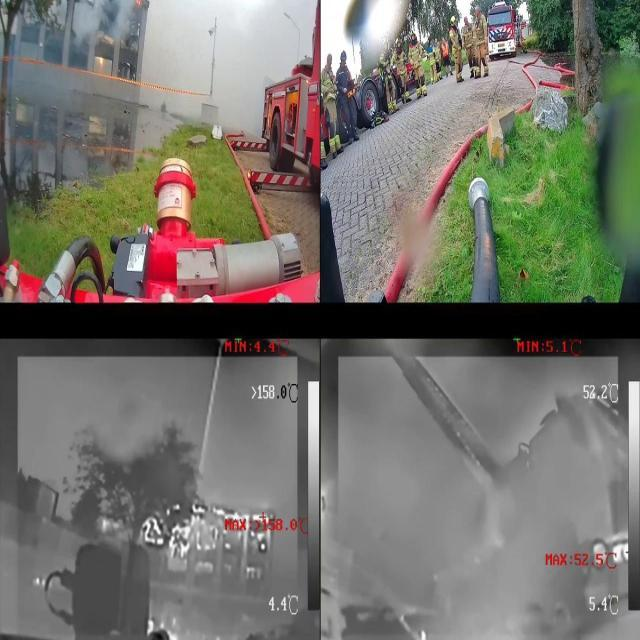Fire: (99, 56, 103, 66)
Smoke: (74, 0, 138, 50)
